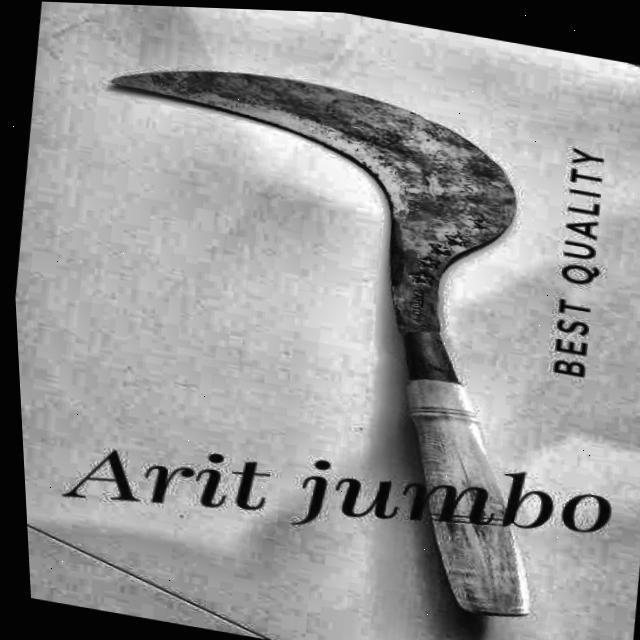celurit: (88, 62, 551, 628)
